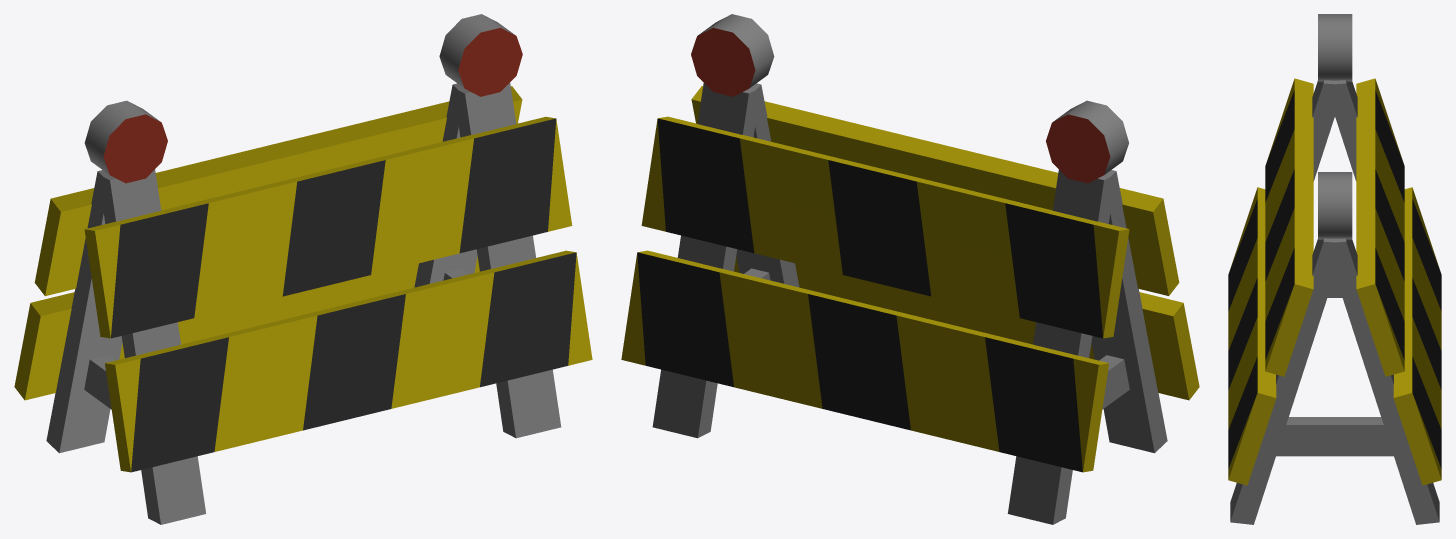
File: fence_06.fbx
The picture shows the model from 3 angles, left to right: view 1: azimuth 30°, elevation 25°; view 2: azimuth 150°, elevation 25°; view 3: azimuth 270°, elevation 25°; orthographic projection. The views are drawn at different scales.
Parts seen in each view (by area): view 1: fence_06; view 2: fence_06; view 3: fence_06.
Part boxes in pixels (left/top/right/bottom): fence_06: left=14, top=14, right=592, bottom=524; fence_06: left=621, top=14, right=1199, bottom=524; fence_06: left=1228, top=14, right=1441, bottom=524.
Size of the model in its own units: 163 by 125 by 71.53.
